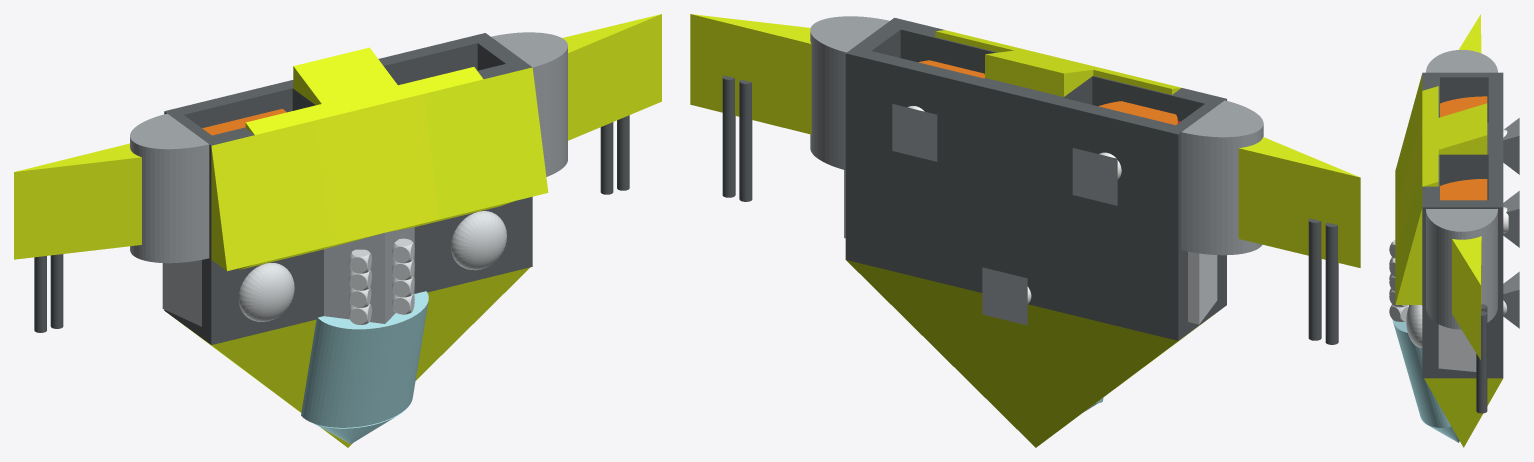
File: tinker.obj
3 renders of one model, left to right at view 1: azimuth 30°, elevation 25°; view 2: azimuth 150°, elevation 25°; view 3: azimuth 270°, elevation 25°, orthographic. The views are drawn at different scales.
Visible parts, largest first — view 1: obj_3, obj_1, obj_2, obj_0, obj_8, obj_13, obj_9, obj_12, obj_7, obj_24, obj_6, obj_16 (+10 smaller); view 2: obj_3, obj_12, obj_8, obj_7, obj_9, obj_6, obj_24, obj_29, obj_31, obj_30, obj_18, obj_22 (+6 smaller); view 3: obj_3, obj_6, obj_7, obj_24, obj_2, obj_12, obj_13, obj_19, obj_0, obj_9, obj_1, obj_17 (+11 smaller).
Boxes of the visible parts, box(x1,y1,x2,y2) form: obj_3: box(164, 33, 532, 344); obj_1: box(211, 120, 330, 270); obj_2: box(424, 67, 548, 219); obj_0: box(315, 94, 439, 245); obj_8: box(14, 143, 141, 259); obj_13: box(301, 291, 428, 427); obj_9: box(130, 113, 209, 263); obj_12: box(173, 267, 529, 447); obj_7: box(562, 14, 661, 140); obj_24: box(293, 47, 406, 116); obj_6: box(491, 32, 567, 176); obj_16: box(314, 227, 414, 328); obj_3: box(845, 17, 1226, 340); obj_12: box(846, 260, 1217, 447); obj_8: box(1238, 137, 1360, 267); obj_7: box(690, 14, 811, 134); obj_9: box(1181, 100, 1263, 255); obj_6: box(810, 16, 889, 170); obj_24: box(985, 49, 1102, 96); obj_29: box(1072, 148, 1117, 205); obj_31: box(982, 267, 1027, 325); obj_30: box(892, 104, 937, 161); obj_18: box(1188, 251, 1217, 324); obj_22: box(1308, 218, 1321, 340); obj_3: box(1422, 72, 1503, 378); obj_6: box(1426, 209, 1497, 329); obj_7: box(1452, 236, 1481, 359); obj_24: box(1422, 103, 1487, 154); obj_2: box(1395, 163, 1422, 304); obj_12: box(1424, 378, 1502, 447); obj_13: box(1392, 319, 1450, 427); obj_19: box(1438, 324, 1476, 371); obj_0: box(1395, 117, 1422, 258); obj_9: box(1426, 50, 1497, 72); obj_1: box(1395, 74, 1422, 213); obj_17: box(1476, 311, 1487, 413).
Bounding box in the file's own units: 119 × 67 × 24.12.
